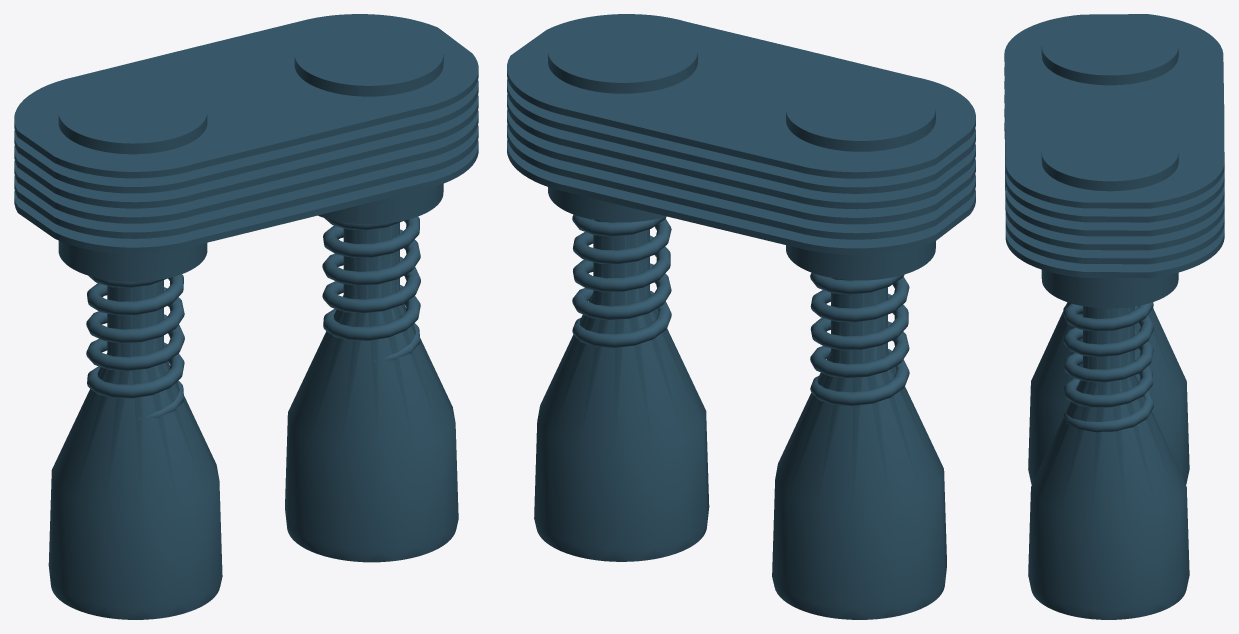
The model's file is rocket_engine_experiment_001.glb.
The picture shows the model from 3 angles, left to right: view 1: azimuth 30°, elevation 25°; view 2: azimuth 150°, elevation 25°; view 3: azimuth 270°, elevation 25°; orthographic projection. The views are drawn at different scales.
Parts seen in each view (by area): view 1: Object_2; view 2: Object_2; view 3: Object_2.
Boxes of the visible parts, x1,y1,x2,y2 form: Object_2: [14, 14, 478, 619]; Object_2: [507, 14, 975, 619]; Object_2: [1004, 14, 1224, 619].
Bounding box in the file's own units: 1.75 × 1.88 × 0.8644.
